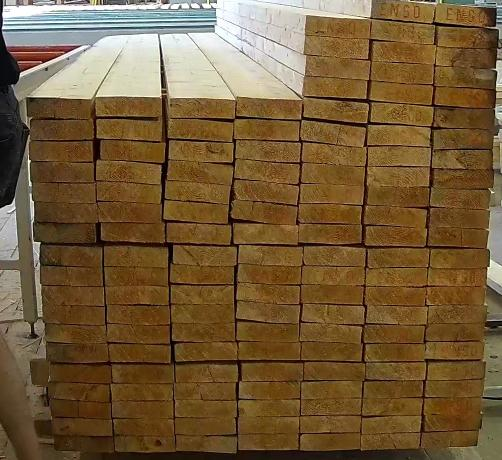Wood-Plank: (301, 120, 367, 147), (232, 200, 298, 225), (96, 160, 161, 185), (168, 160, 232, 185), (304, 98, 370, 122), (371, 102, 435, 126), (236, 96, 301, 119), (235, 181, 299, 204), (164, 200, 228, 223), (96, 118, 162, 140), (307, 14, 370, 37), (372, 20, 435, 43), (307, 56, 370, 79), (236, 160, 299, 183), (236, 140, 301, 162), (165, 181, 230, 203), (306, 37, 370, 59), (168, 96, 232, 118), (437, 3, 497, 26), (437, 25, 499, 47), (372, 61, 434, 83), (371, 83, 433, 105), (430, 225, 489, 248), (373, 42, 437, 63), (168, 121, 232, 142), (167, 224, 231, 245), (30, 120, 93, 141), (100, 142, 163, 163), (169, 142, 232, 163), (303, 145, 366, 166), (97, 182, 160, 203), (237, 302, 300, 323), (436, 67, 498, 88), (305, 77, 367, 98), (303, 165, 365, 186), (237, 322, 299, 343), (235, 121, 300, 141), (436, 108, 495, 130), (432, 187, 491, 209), (29, 141, 93, 161), (104, 247, 168, 267), (234, 225, 298, 245), (173, 247, 237, 267), (373, 2, 436, 22), (436, 86, 496, 107), (369, 126, 432, 146), (32, 183, 95, 203), (95, 97, 161, 116), (34, 203, 96, 223), (40, 247, 102, 267), (46, 344, 108, 364), (105, 286, 167, 306), (98, 203, 160, 223), (27, 97, 89, 117), (238, 284, 299, 304), (30, 163, 94, 182), (33, 224, 97, 243), (239, 247, 303, 266), (42, 287, 102, 307), (369, 147, 432, 166), (107, 306, 170, 325), (105, 267, 168, 286), (101, 223, 164, 242), (172, 305, 235, 324), (175, 364, 238, 383), (300, 225, 363, 244), (109, 345, 171, 364), (366, 208, 428, 227), (171, 286, 233, 305), (175, 343, 237, 362), (434, 169, 495, 188), (368, 167, 429, 186), (48, 383, 109, 402), (112, 365, 173, 384), (304, 248, 365, 267), (368, 249, 429, 268), (367, 268, 428, 287), (365, 325, 426, 344), (434, 130, 494, 149), (43, 307, 103, 326), (367, 227, 427, 246), (367, 288, 427, 307), (429, 361, 486, 381), (301, 186, 364, 204), (170, 267, 233, 285), (302, 286, 365, 304), (438, 48, 497, 67), (434, 150, 493, 169), (369, 187, 428, 206), (432, 249, 491, 268), (40, 268, 102, 286), (49, 365, 111, 383), (300, 205, 362, 223), (175, 418, 237, 436), (239, 266, 301, 284), (50, 401, 111, 419), (112, 401, 173, 419), (107, 326, 168, 344), (175, 383, 236, 401), (240, 383, 301, 401), (242, 364, 303, 382), (239, 343, 300, 361), (365, 345, 426, 363), (302, 306, 363, 324), (302, 382, 363, 400), (45, 325, 105, 343), (368, 307, 428, 325), (172, 325, 235, 342), (428, 288, 487, 306), (363, 417, 422, 435), (364, 399, 423, 417), (111, 385, 173, 402), (303, 268, 365, 285), (431, 210, 489, 228), (427, 324, 485, 342), (427, 342, 485, 360), (427, 380, 485, 398), (176, 437, 237, 454), (239, 401, 300, 418), (301, 326, 362, 343), (425, 415, 482, 433), (54, 436, 114, 453), (239, 418, 299, 435), (302, 344, 362, 361), (301, 417, 361, 434), (301, 435, 361, 452), (430, 306, 486, 324), (239, 434, 298, 451), (362, 434, 421, 451), (367, 363, 426, 380), (305, 364, 364, 381), (175, 402, 237, 418), (430, 269, 487, 286), (425, 400, 482, 417), (423, 432, 480, 449), (114, 437, 174, 453), (113, 420, 173, 436), (302, 400, 362, 416), (365, 383, 424, 399), (52, 421, 112, 436)
